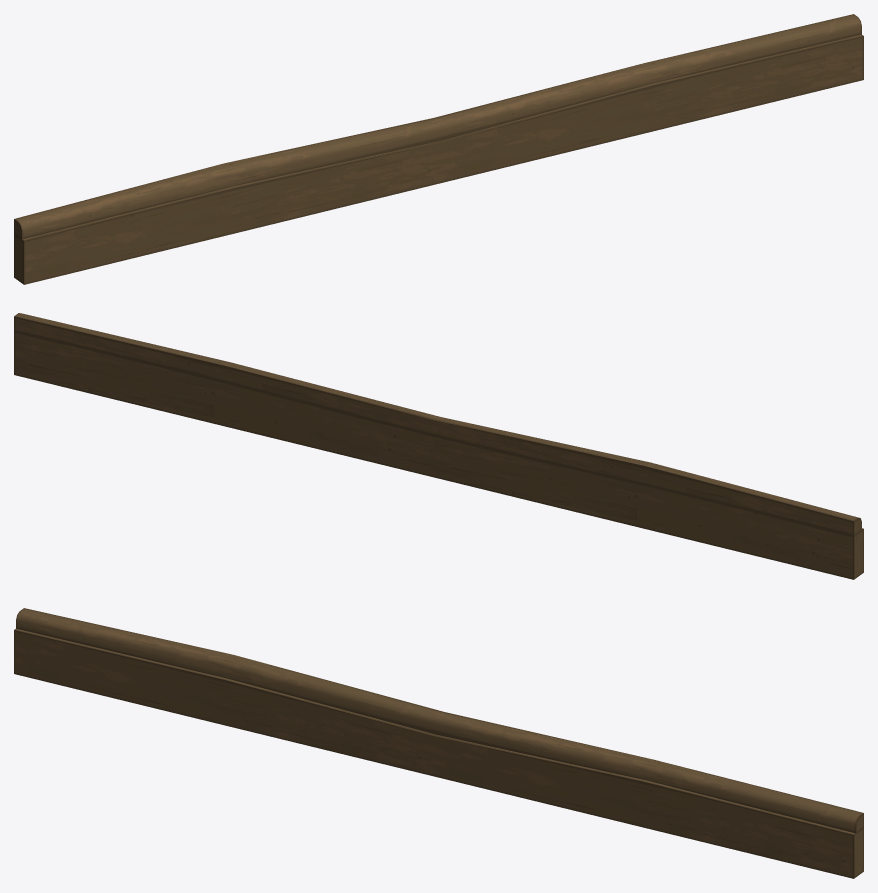
Rendered from SM_plinth_01.glb.
3 renders of one model, top to bottom at view 1: azimuth 30°, elevation 25°; view 2: azimuth 150°, elevation 25°; view 3: azimuth 330°, elevation 25°, orthographic.
Visible parts, largest first — view 1: SM_plinth_01; view 2: SM_plinth_01; view 3: SM_plinth_01.
Boxes of the visible parts, x1=… form: SM_plinth_01: x1=14, y1=14, x2=863, y2=284; SM_plinth_01: x1=14, y1=313, x2=863, y2=579; SM_plinth_01: x1=14, y1=608, x2=863, y2=878.
Bounding box in the file's own units: 6 × 0.4298 × 0.1245.
Materials: 1 (1 with a texture image).
